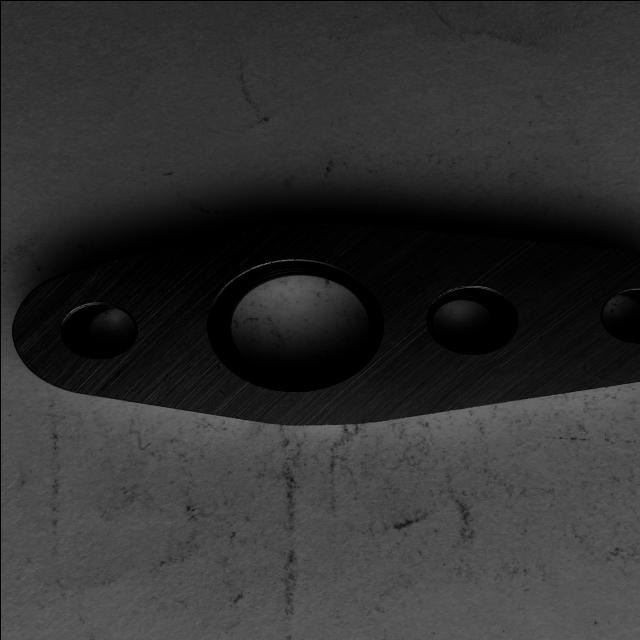lines: (579, 355, 619, 382), (161, 371, 175, 393), (590, 294, 602, 304), (217, 387, 226, 397)
